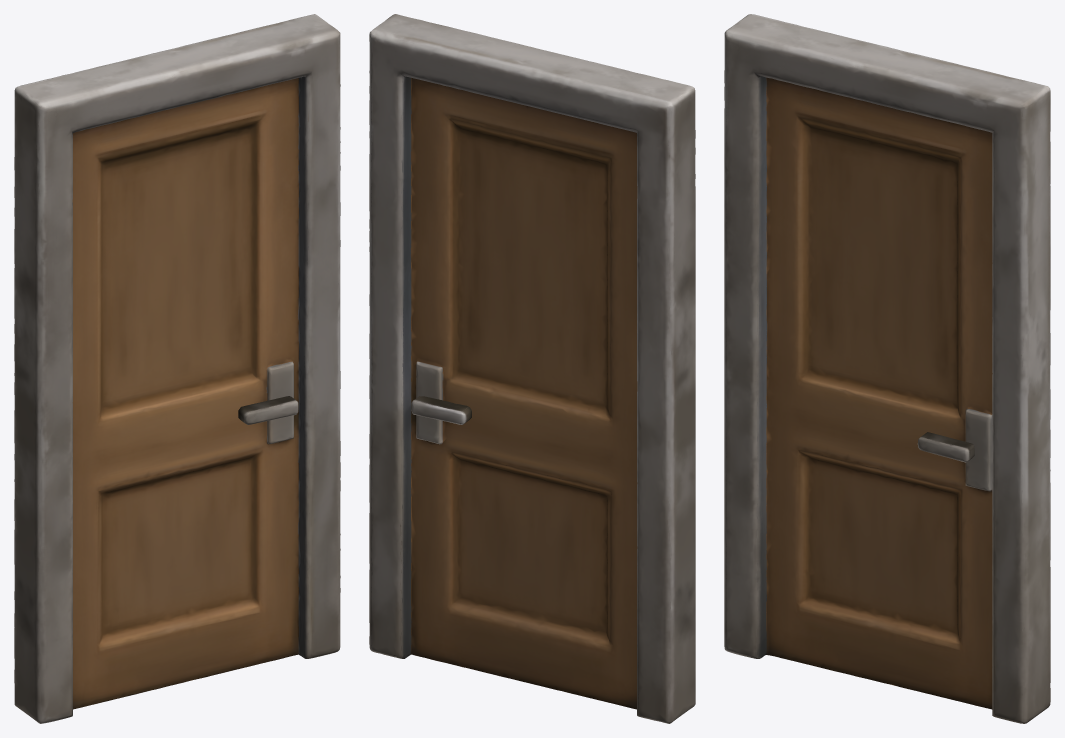
File: extra_DoorWithoutFrame.glb
3 renders of one model, left to right at view 1: azimuth 30°, elevation 25°; view 2: azimuth 150°, elevation 25°; view 3: azimuth 330°, elevation 25°, orthographic.
Visible parts, largest first — view 1: world; view 2: world; view 3: world.
Part boxes in pixels (x1,y1,x2,y2): world: [14, 14, 340, 723]; world: [369, 14, 695, 723]; world: [724, 14, 1050, 723].
Bounding box in the file's own units: 0.5129 × 1 × 0.1244.
1 material, 1 textured.
